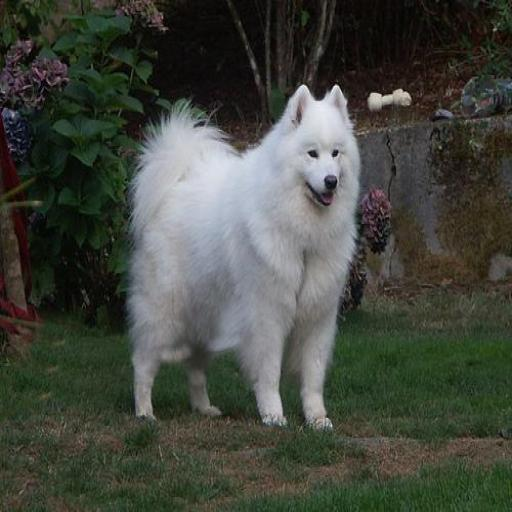dog_face: (285, 82, 353, 218)
